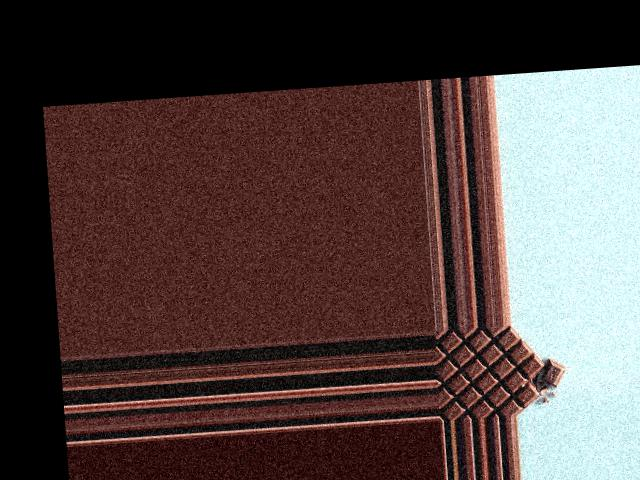chocolate: (432, 326, 555, 419)
